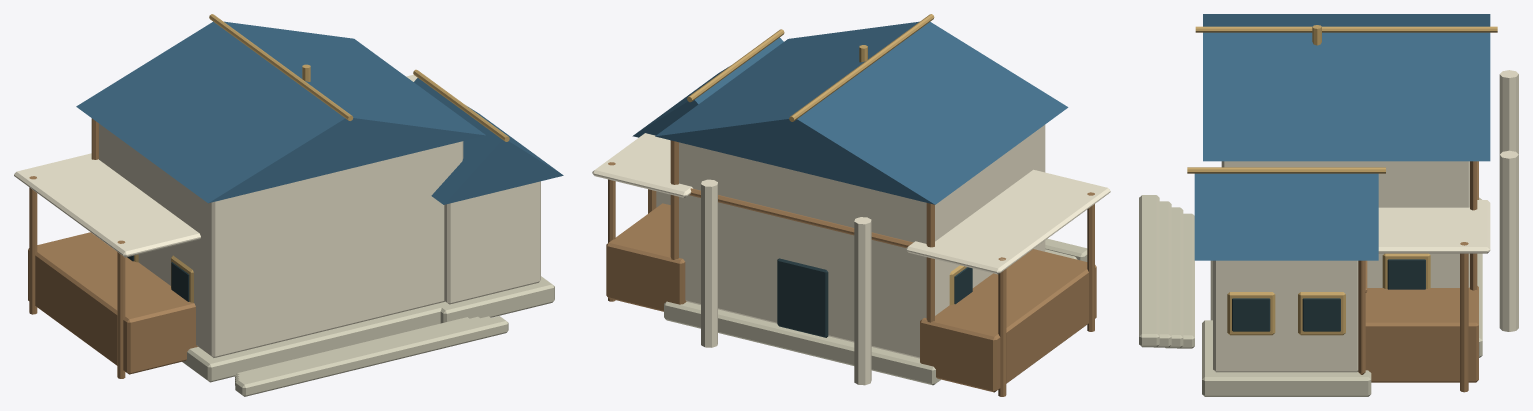
The model's file is level_25.glb.
3 views of the same model, side by side, from view 1: azimuth 30°, elevation 25°; view 2: azimuth 150°, elevation 25°; view 3: azimuth 270°, elevation 25° (orthographic). The views are drawn at different scales.
Visible parts, largest first — view 1: market — level 25; view 2: market — level 25; view 3: market — level 25.
Part boxes in pixels (x1,y1,x2,y2): market — level 25: [14, 14, 563, 396]; market — level 25: [592, 14, 1110, 396]; market — level 25: [1139, 14, 1518, 396].
Bounding box in the file's own units: 7.08 × 4.01 × 5.16.
